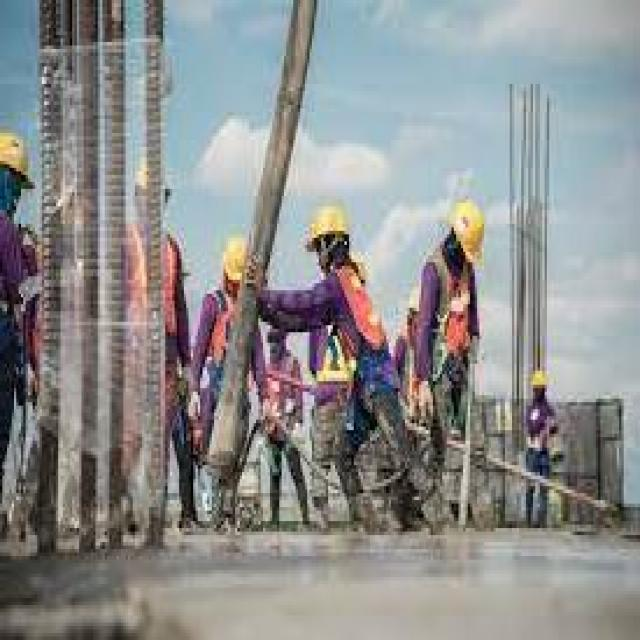Reflective-Jacket: (303, 258, 391, 412), (407, 241, 484, 371), (118, 224, 188, 360), (0, 210, 44, 392), (198, 287, 251, 381), (517, 399, 563, 465)
Safety-Helmet: (438, 189, 496, 273), (298, 189, 361, 262), (216, 224, 256, 294), (0, 122, 37, 192), (524, 360, 556, 399)
